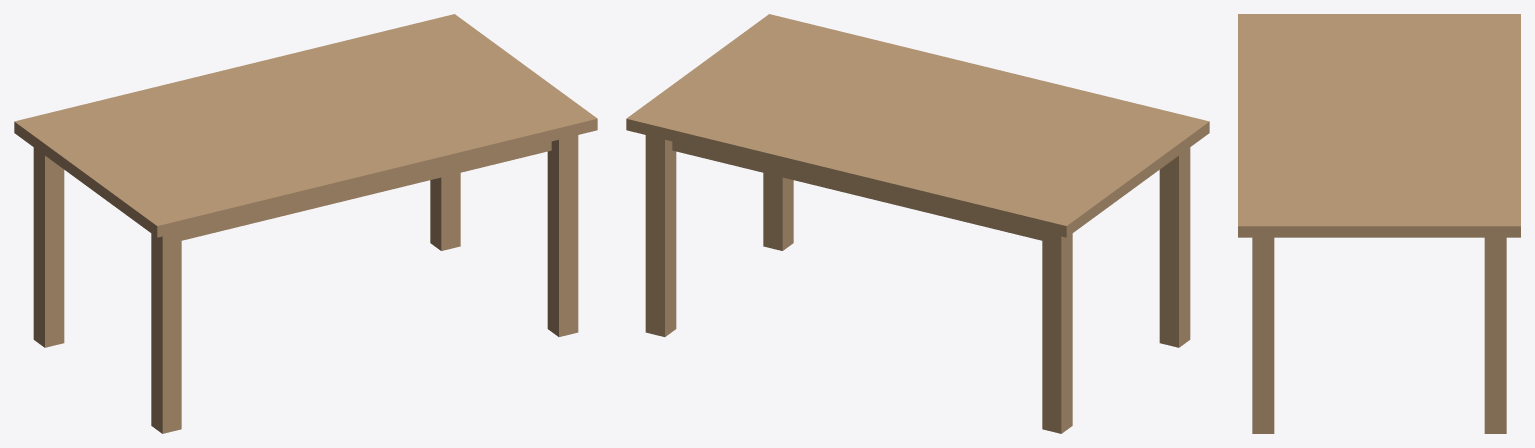
File: mesa.glb
3 renders of one model, left to right at view 1: azimuth 30°, elevation 25°; view 2: azimuth 150°, elevation 25°; view 3: azimuth 270°, elevation 25°, orthographic.
Visible parts, largest first — view 1: Mueble; view 2: Mueble; view 3: Mueble.
Part boxes in pixels (x1,y1,x2,y2): Mueble: (14, 14, 597, 433); Mueble: (626, 14, 1209, 433); Mueble: (1238, 14, 1520, 433).
Bounding box in the file's own units: 1.6 × 0.75 × 0.9.
